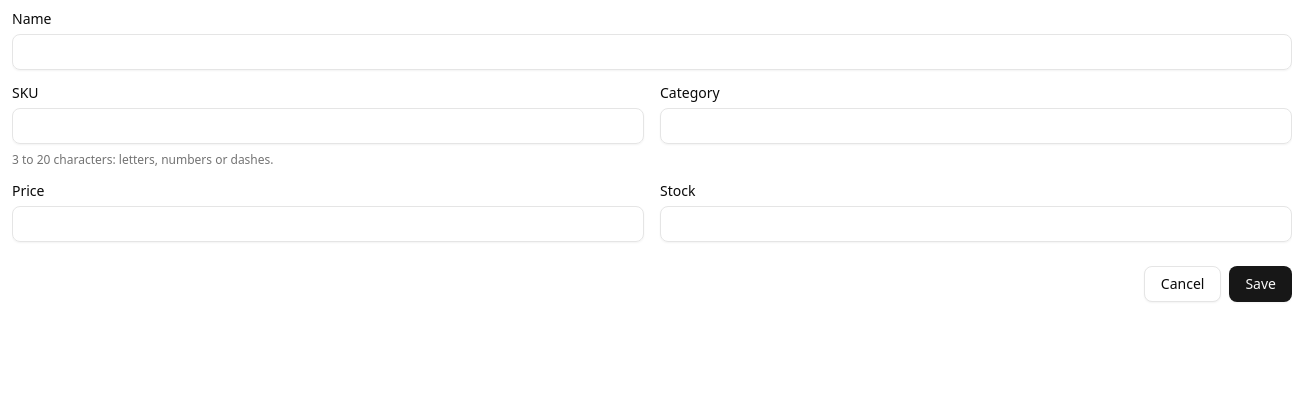
Test case: <ProductForm /> › revalida mientras corriges un campo con error
Click the button "Save" at (1261, 284), box [1229,266,1292,302]
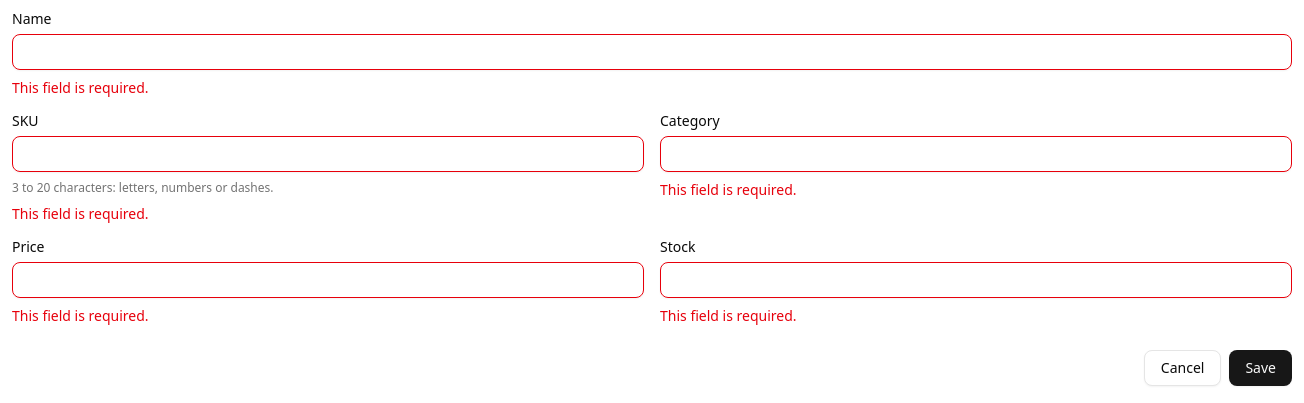
Type "W" into the field labelled "Name" at (652, 52), box [12,34,1292,70]
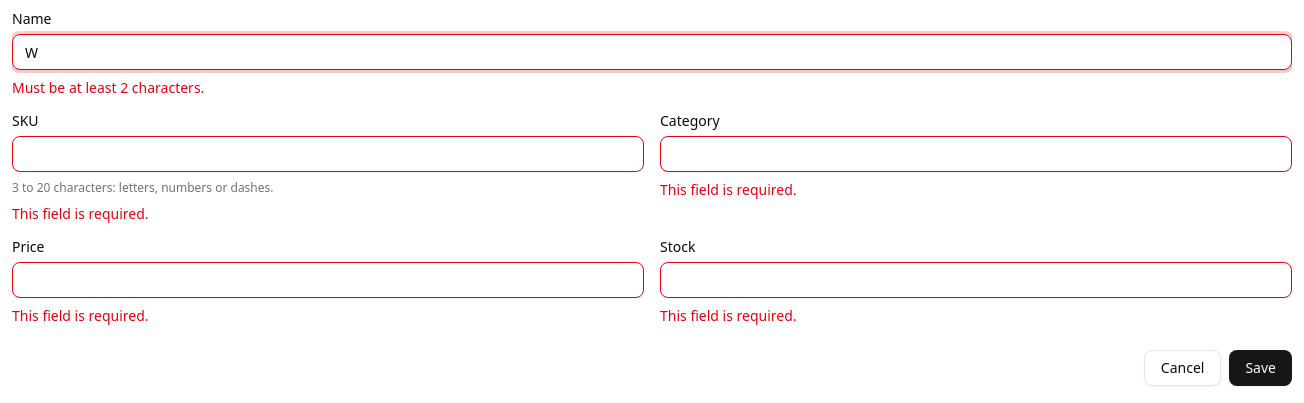
Check: the text "This field is required." is shown 4 times, box [12,204,149,223]; [660,180,797,199]; [12,306,149,325]; [660,306,797,325]
Check: the text "Must be at least 2 characters." is shown, box [12,78,204,97]
